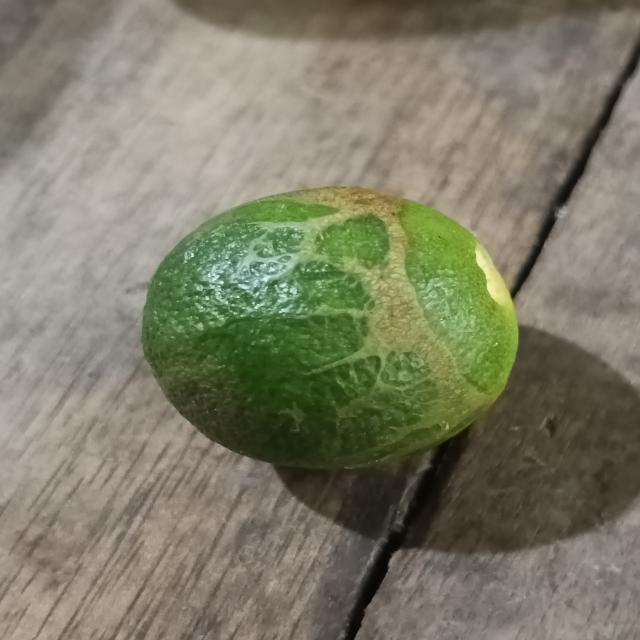thrips: (138, 187, 520, 477)
